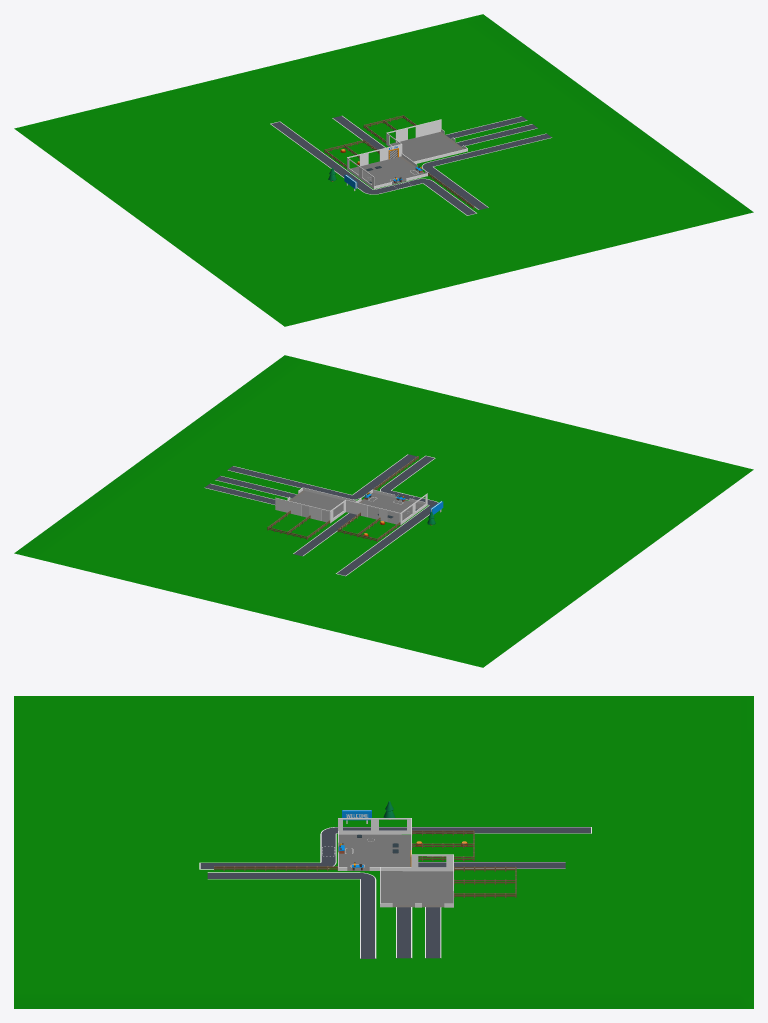
The model's file is environment.fbx.
3 renders of one model, top to bottom at view 1: azimuth 30°, elevation 25°; view 2: azimuth 150°, elevation 25°; view 3: azimuth 270°, elevation 25°, orthographic. The views are drawn at different scales.
Parts seen in each view (by area): view 1: grass, road, border, floor.001, floor, wall.001, wall, fence; view 2: grass, road, border, floor, fence, wall.001, floor.001, wall; view 3: grass, road, floor.001, floor, fence, border, wall, wall.001.
Boxes of the visible parts, x1,y1,x2,y2 form: grass: (14, 14, 753, 326); road: (271, 116, 551, 215); border: (270, 115, 551, 215); floor.001: (390, 131, 464, 161); floor: (350, 156, 424, 185); wall.001: (386, 119, 467, 163); wall: (347, 144, 428, 189); fence: (324, 115, 474, 209); grass: (14, 355, 753, 667); road: (205, 454, 437, 575); border: (204, 454, 438, 576); floor: (359, 492, 423, 524); fence: (267, 456, 418, 541); wall.001: (275, 487, 357, 522); floor.001: (289, 490, 344, 522); wall: (346, 489, 427, 525); grass: (14, 696, 753, 1008); road: (200, 827, 590, 958); floor.001: (380, 871, 453, 907); floor: (338, 834, 411, 871); fence: (214, 830, 516, 897); border: (199, 827, 591, 958); wall: (338, 818, 411, 870); wall.001: (380, 854, 453, 907).
Bounding box in the file's own units: 5334 × 150 × 5334.
